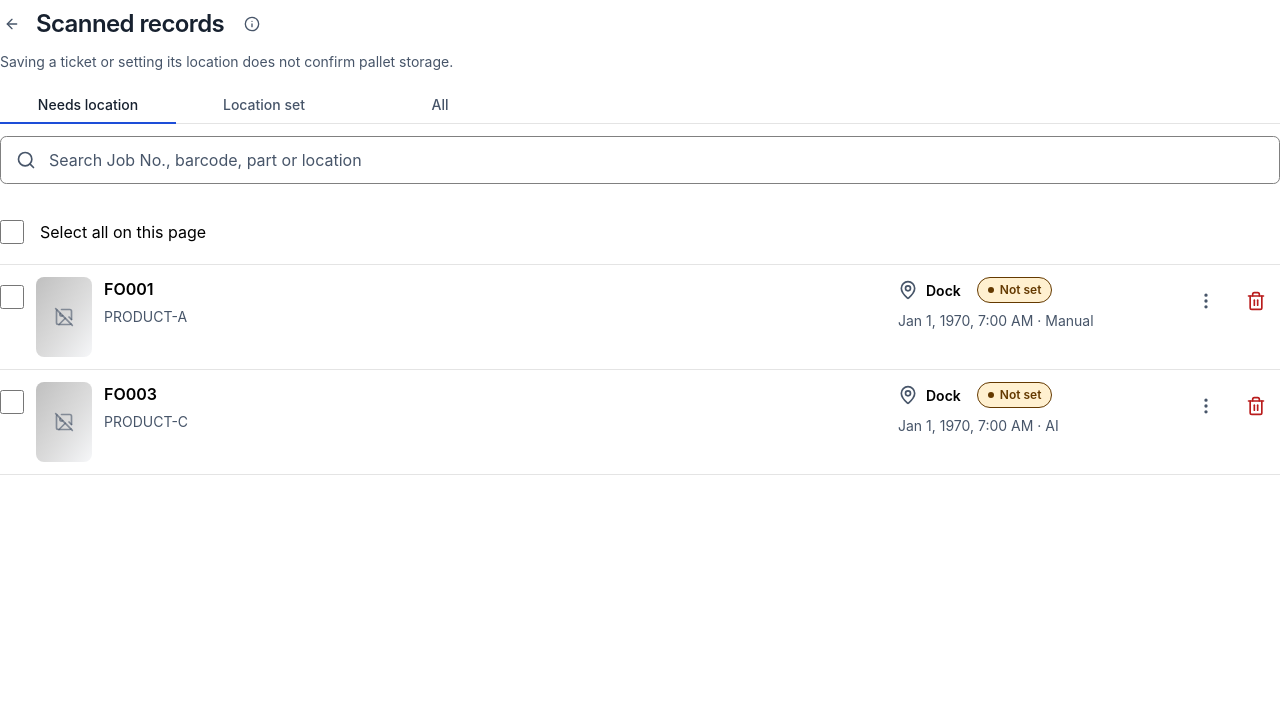
Test case: scanned record deletion › deletes selected mapped and unmapped records and clears the action bar
Click the button "All": (440, 106) [352,88,528,124]
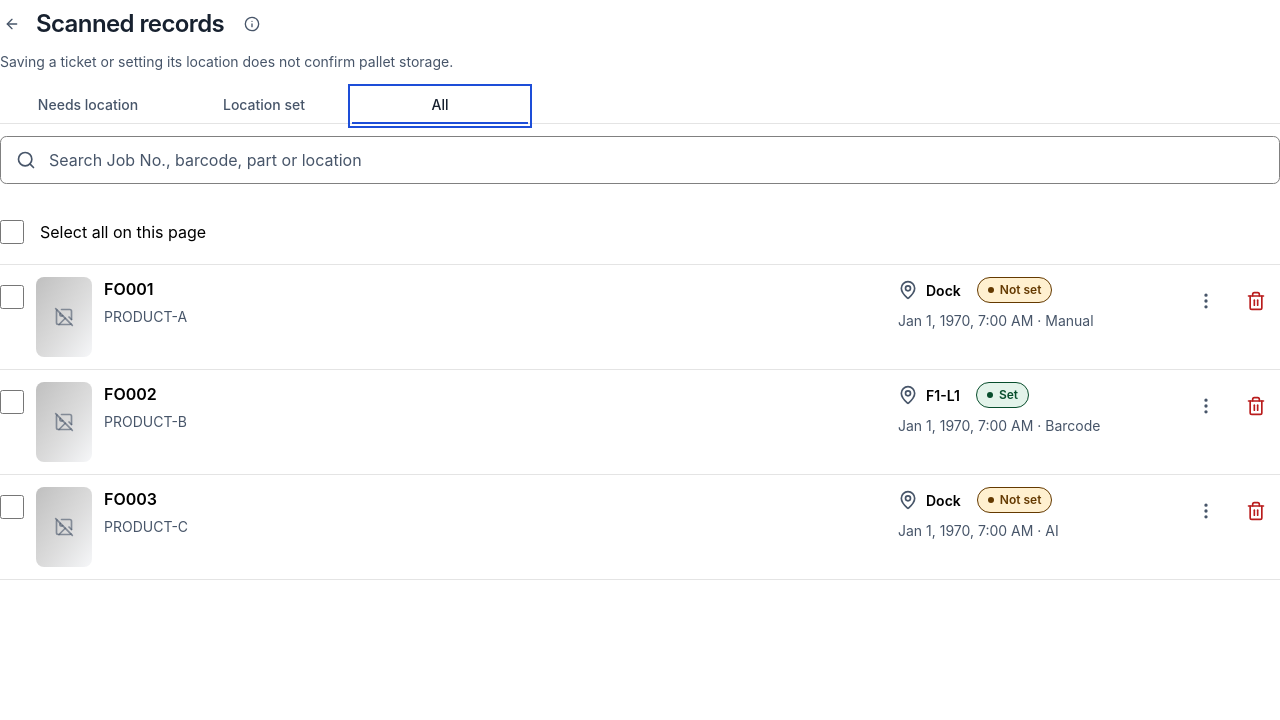
Click the checkbox named "Select FO001": (12, 297) [0,285,24,309]
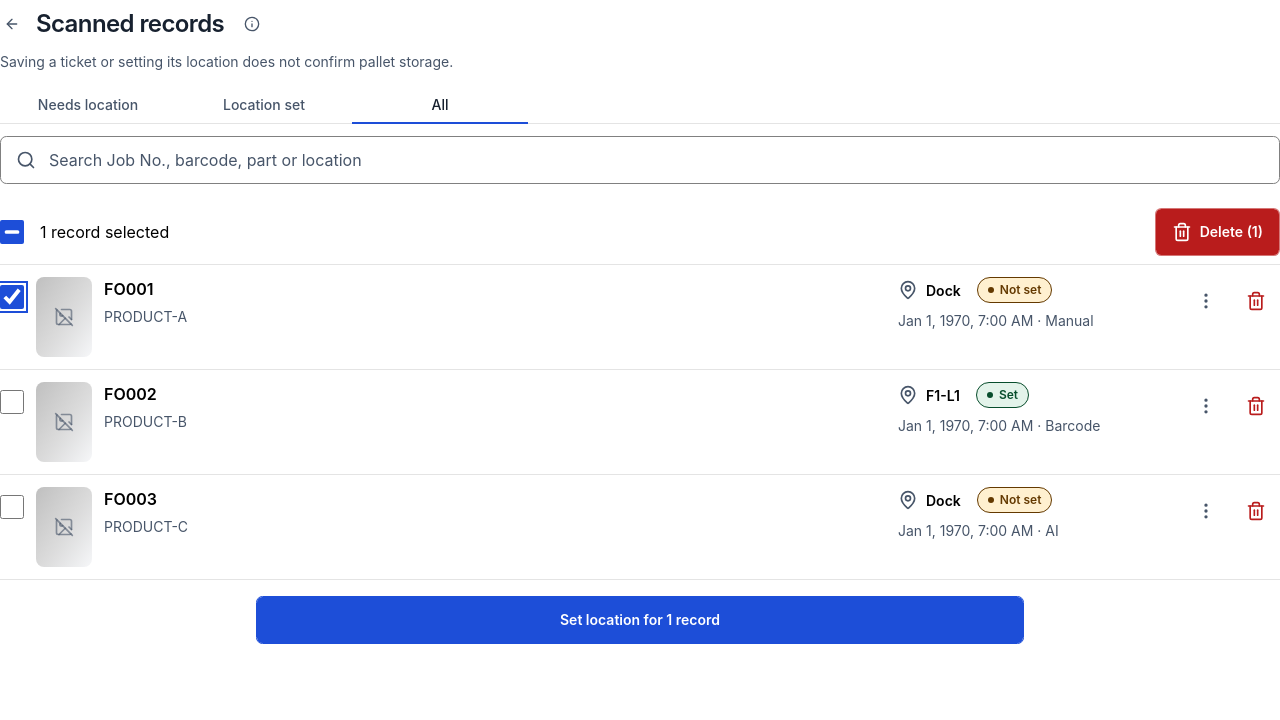
Click the checkbox named "Select FO002": (12, 402) [0,390,24,414]
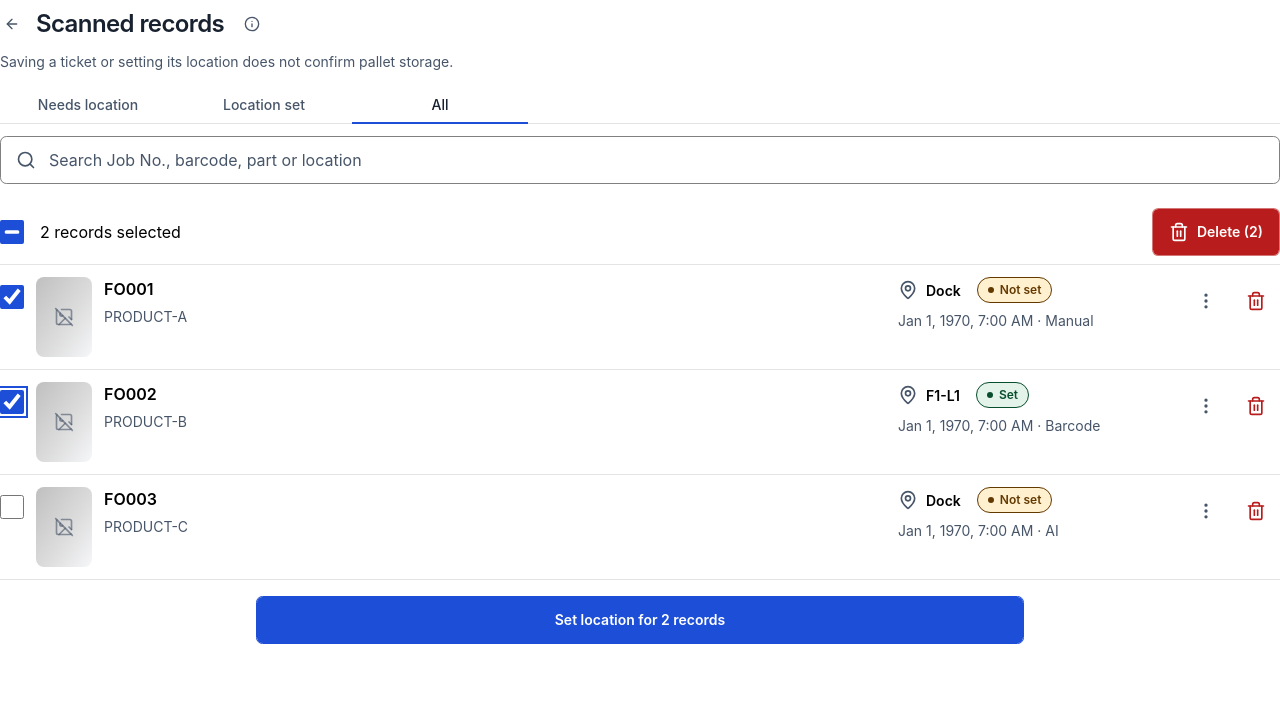
Click the button with aria-label "Delete 2 selected records": (1216, 232) [1152,208,1279,256]
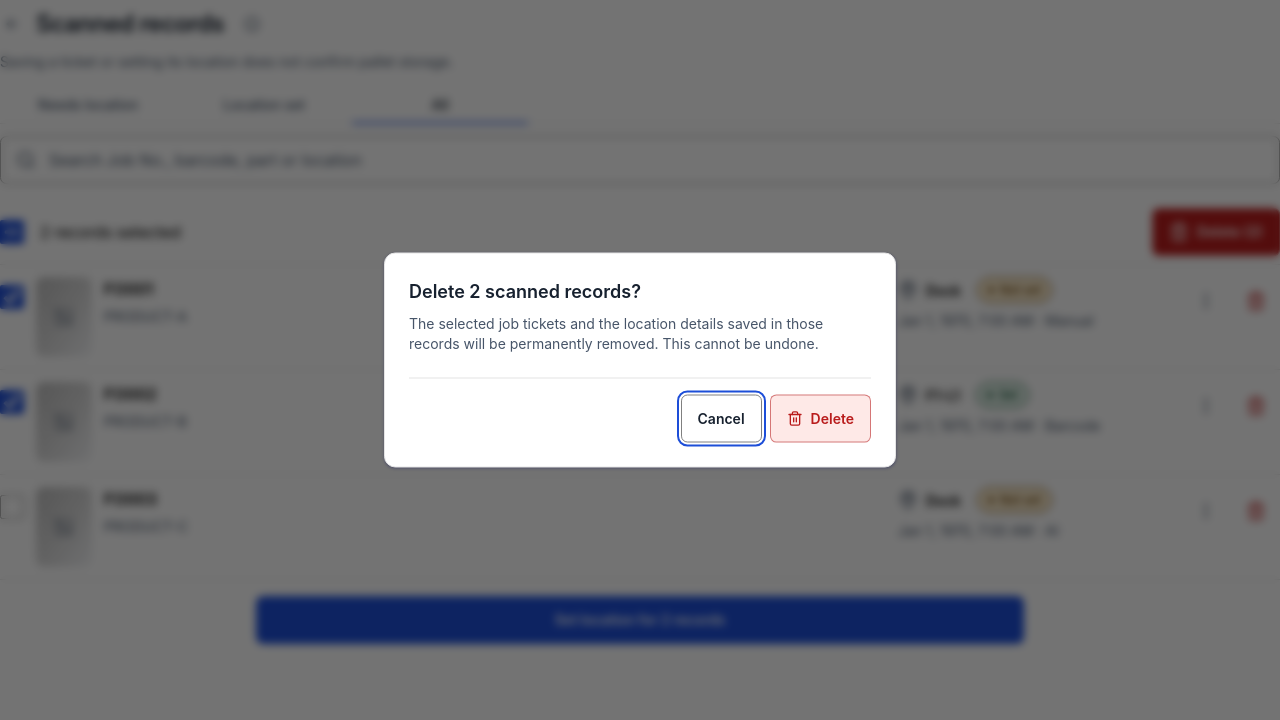
Click the button "Delete": (820, 418) [770,394,871,442]
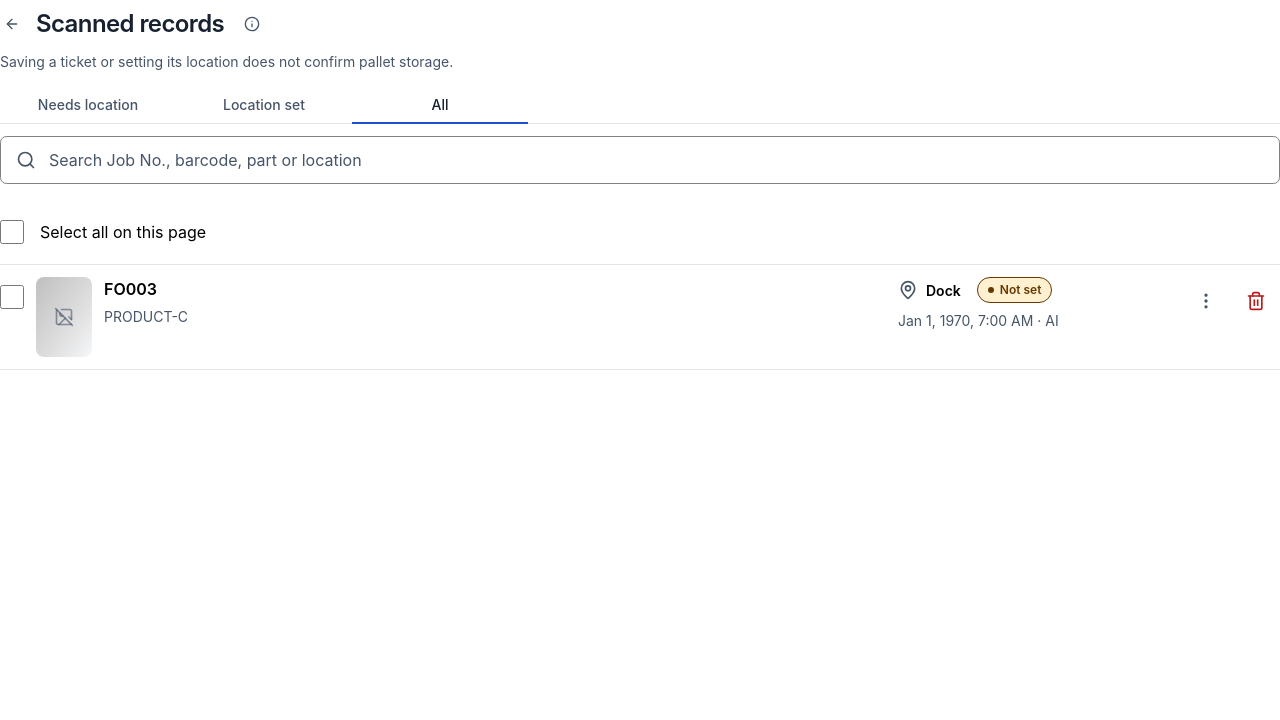
Expected: the heading "Delete 2 scanned records?" is gone
Expected: the text "FO001" is gone
Expected: the text "FO002" is gone
